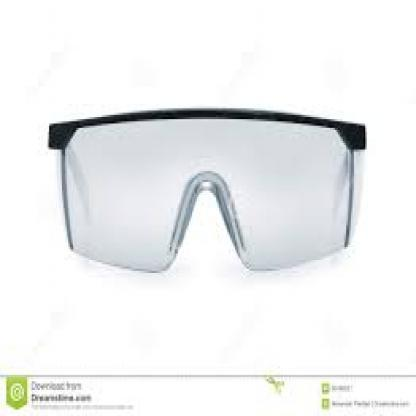goggles: (48, 104, 367, 277)
